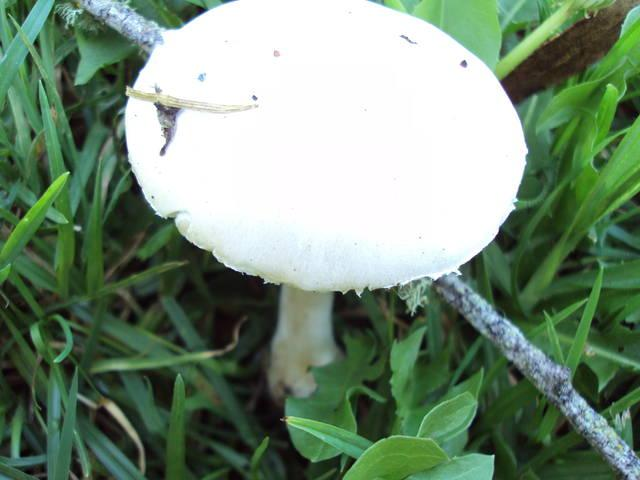Non-edible Mushroom: (122, 0, 529, 402)
